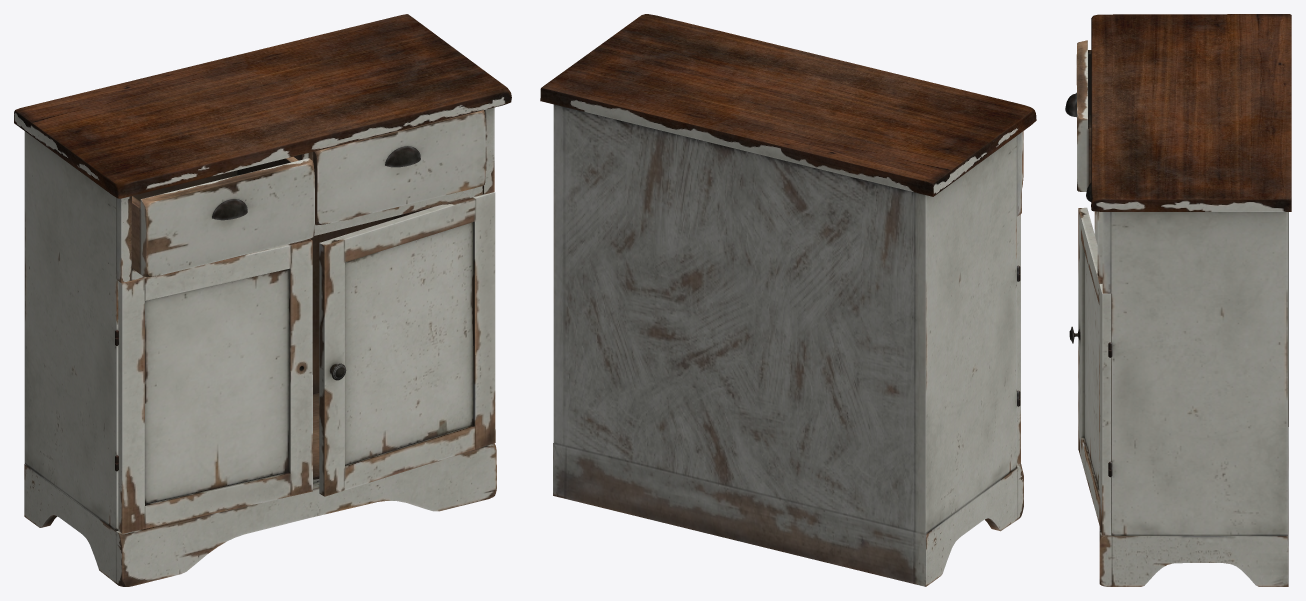
The picture shows the model from 3 angles, left to right: view 1: azimuth 30°, elevation 25°; view 2: azimuth 150°, elevation 25°; view 3: azimuth 270°, elevation 25°; orthographic projection. The views are drawn at different scales.
Visible parts, largest first — view 1: painted_wooden_cabinet, painted_wooden_cabinet_door_01, painted_wooden_cabinet_door_02, painted_wooden_cabinet_drawer_01, painted_wooden_cabinet_drawer_02; view 2: painted_wooden_cabinet, painted_wooden_cabinet_door_01; view 3: painted_wooden_cabinet, painted_wooden_cabinet_door_02, painted_wooden_cabinet_drawer_01, painted_wooden_cabinet_drawer_02.
Part boxes in pixels (x1=…): painted_wooden_cabinet: x1=14, y1=14, x2=511, y2=586; painted_wooden_cabinet_door_01: x1=118, y1=238, x2=312, y2=533; painted_wooden_cabinet_door_02: x1=319, y1=192, x2=495, y2=496; painted_wooden_cabinet_drawer_01: x1=132, y1=156, x2=314, y2=277; painted_wooden_cabinet_drawer_02: x1=313, y1=110, x2=485, y2=224; painted_wooden_cabinet: x1=540, y1=14, x2=1036, y2=586; painted_wooden_cabinet_door_01: x1=1017, y1=214, x2=1020, y2=465; painted_wooden_cabinet: x1=1091, y1=14, x2=1291, y2=586; painted_wooden_cabinet_door_02: x1=1069, y1=207, x2=1110, y2=535; painted_wooden_cabinet_drawer_01: x1=1065, y1=40, x2=1091, y2=191; painted_wooden_cabinet_drawer_02: x1=1086, y1=183, x2=1102, y2=277.
Size of the model in its own units: 1.19 by 1.18 by 0.6166.
Materials: 1 (1 with a texture image).
